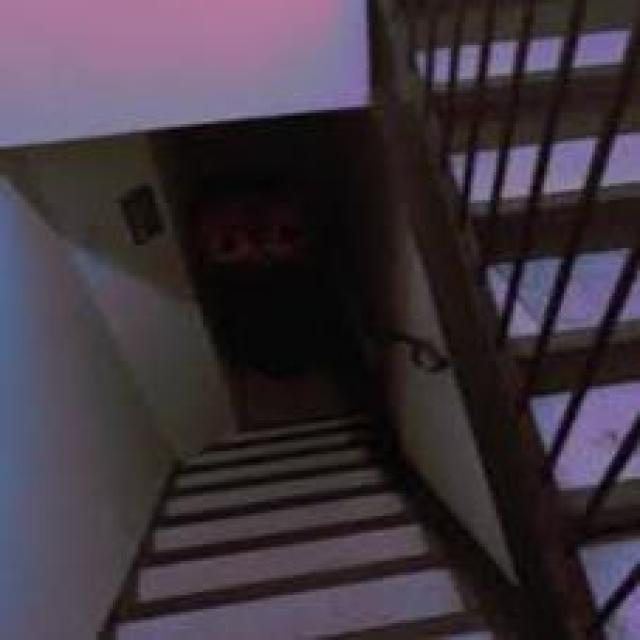downstair: (111, 452, 430, 607)
